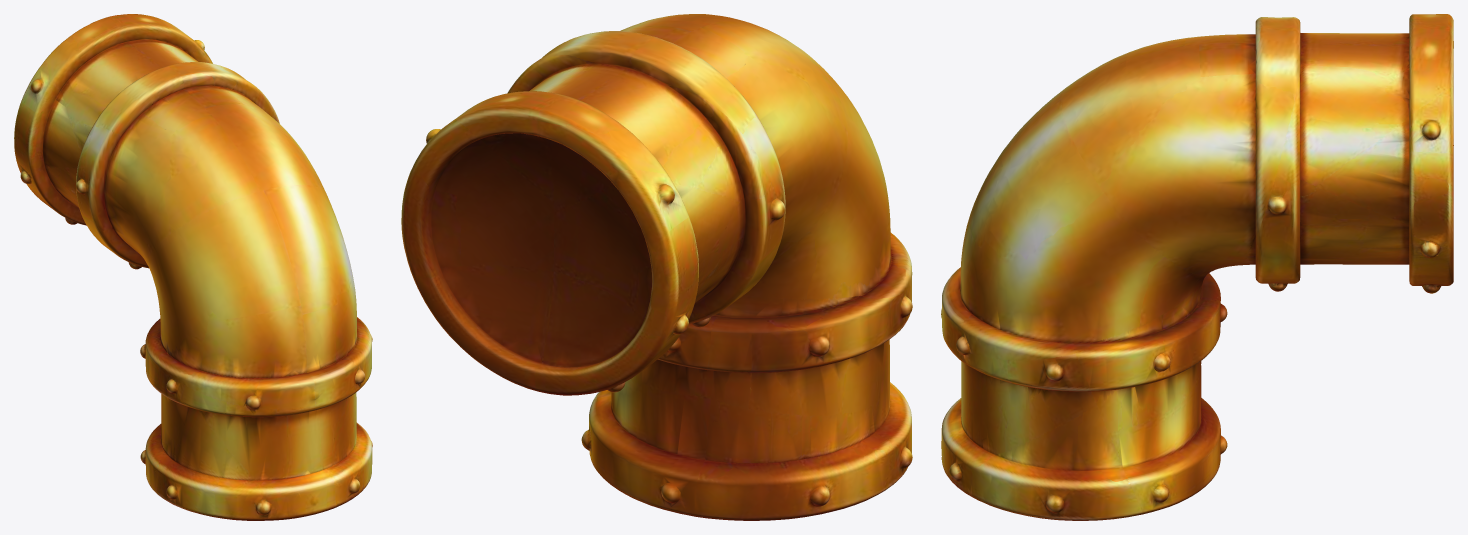
The model's file is gold_jj_tiny_lod0.glb.
3 renders of one model, left to right at view 1: azimuth 30°, elevation 25°; view 2: azimuth 150°, elevation 25°; view 3: azimuth 270°, elevation 25°, orthographic. The views are drawn at different scales.
Visible parts, largest first — view 1: tripo_node_b9b6455e-a1b4-4d94-b8c5-352d0f65baa9; view 2: tripo_node_b9b6455e-a1b4-4d94-b8c5-352d0f65baa9; view 3: tripo_node_b9b6455e-a1b4-4d94-b8c5-352d0f65baa9.
Part boxes in pixels (x1,y1,x2,y2): tripo_node_b9b6455e-a1b4-4d94-b8c5-352d0f65baa9: (14,14,372,520); tripo_node_b9b6455e-a1b4-4d94-b8c5-352d0f65baa9: (401,14,912,520); tripo_node_b9b6455e-a1b4-4d94-b8c5-352d0f65baa9: (941,14,1453,520).
Bounding box in the file's own units: 0.5626 × 0.9239 × 0.9801.
Materials: 1 (1 with a texture image).
